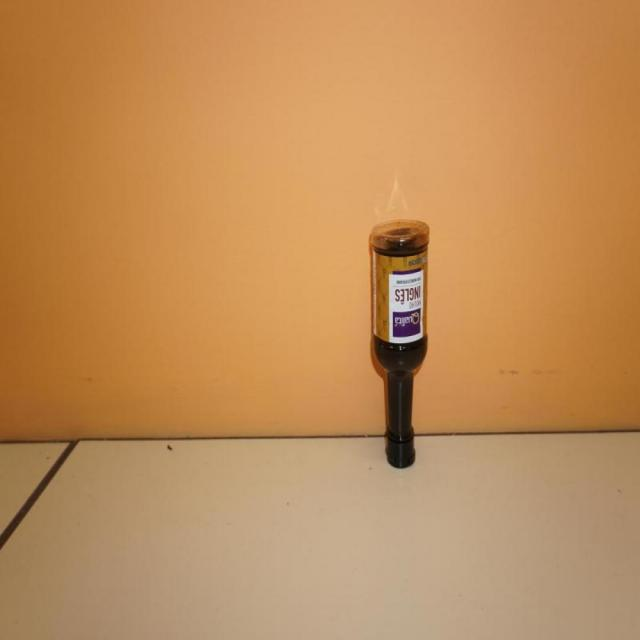EnglishSauce: (368, 221, 429, 470)
